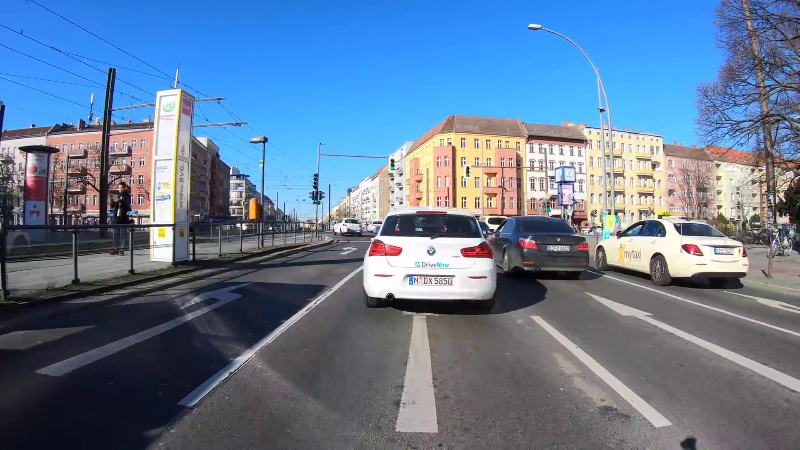Plate: (407, 273, 455, 286), (544, 243, 571, 252), (713, 246, 735, 256)
